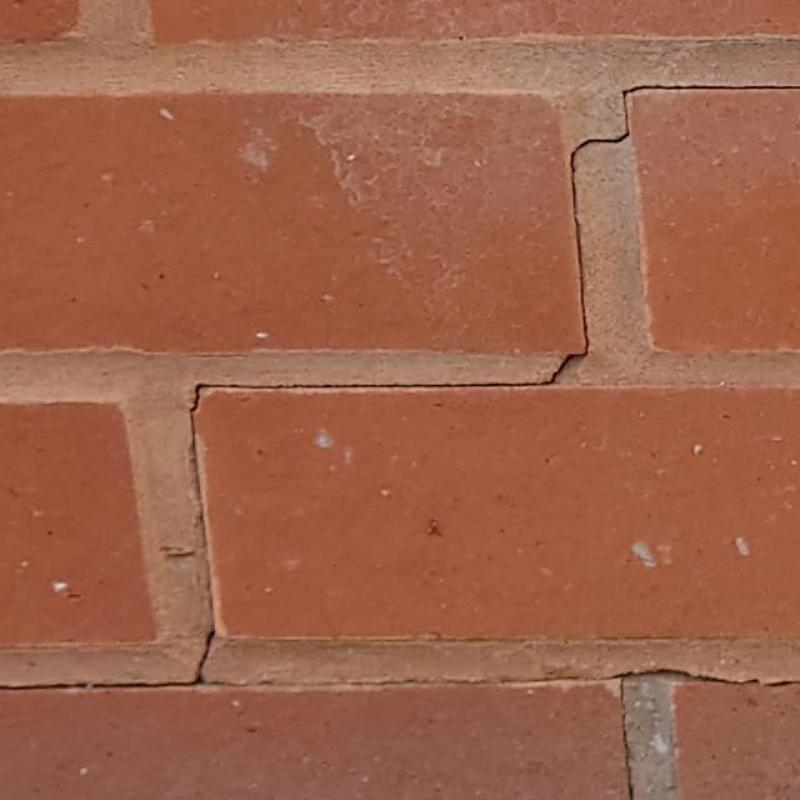crack: (187, 84, 799, 629), (0, 628, 217, 690), (206, 676, 618, 690), (611, 668, 799, 688), (619, 679, 634, 799)
